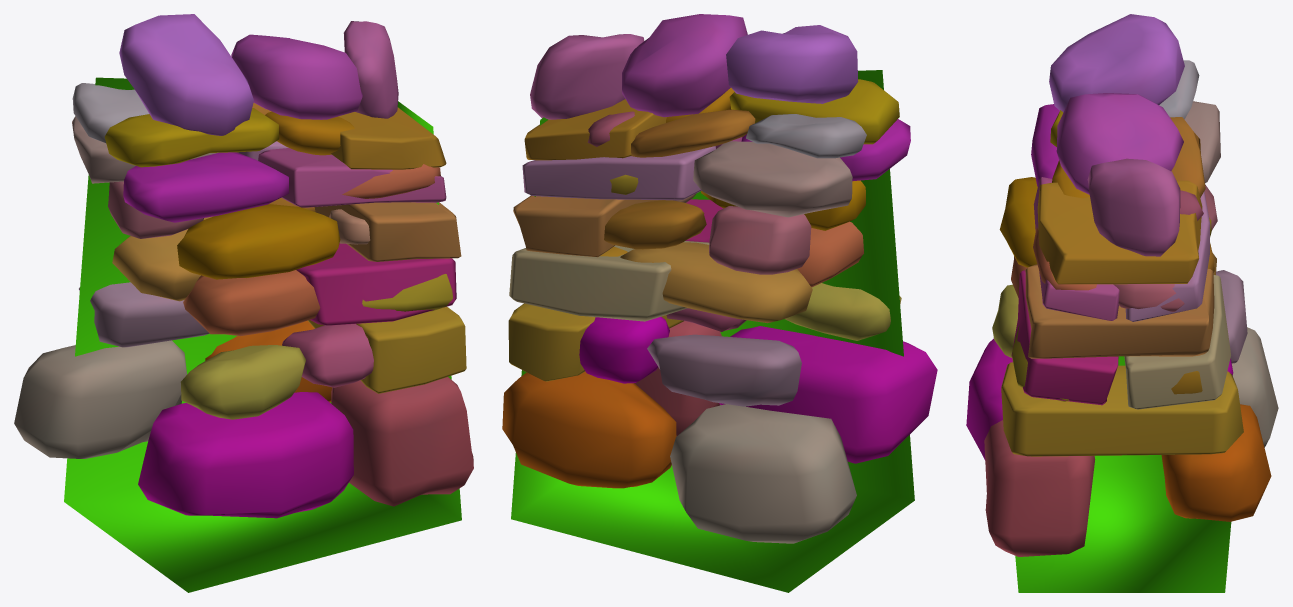
The model's file is SM_Prop_wall_end_16.glb.
The picture shows the model from 3 angles, left to right: view 1: azimuth 30°, elevation 25°; view 2: azimuth 150°, elevation 25°; view 3: azimuth 270°, elevation 25°; orthographic projection. The views are drawn at different scales.
Parts seen in each view (by area): view 1: SM_Prop_wall_end_16; view 2: SM_Prop_wall_end_16; view 3: SM_Prop_wall_end_16.
Boxes of the visible parts, left/top/right/bottom form: SM_Prop_wall_end_16: left=14, top=14, right=473, bottom=592; SM_Prop_wall_end_16: left=502, top=14, right=937, bottom=592; SM_Prop_wall_end_16: left=966, top=14, right=1278, bottom=592.
Size of the model in its own units: 1.17 by 1.65 by 1.01.
